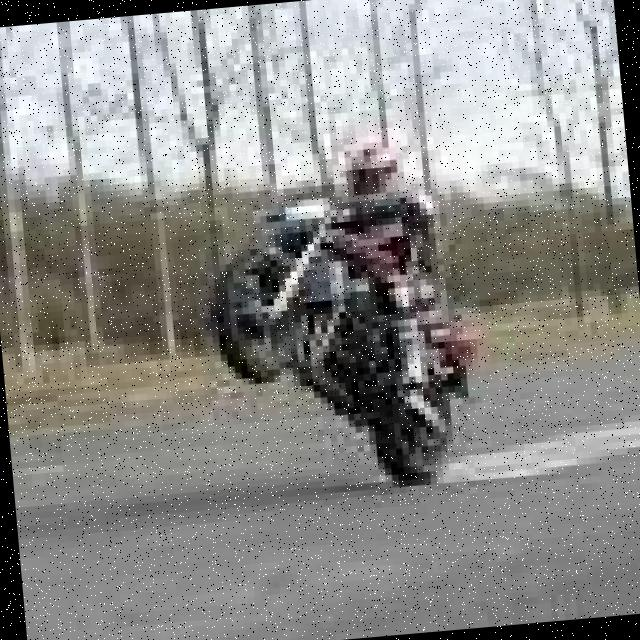Wheeling: (193, 110, 486, 497)
